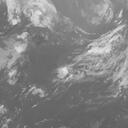cyclone: (42, 31, 94, 85)
